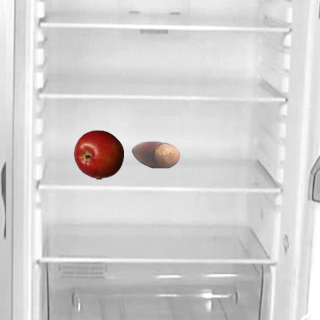Apple Braeburn: (73, 129, 123, 179)
Hazelnut: (130, 129, 180, 179)
